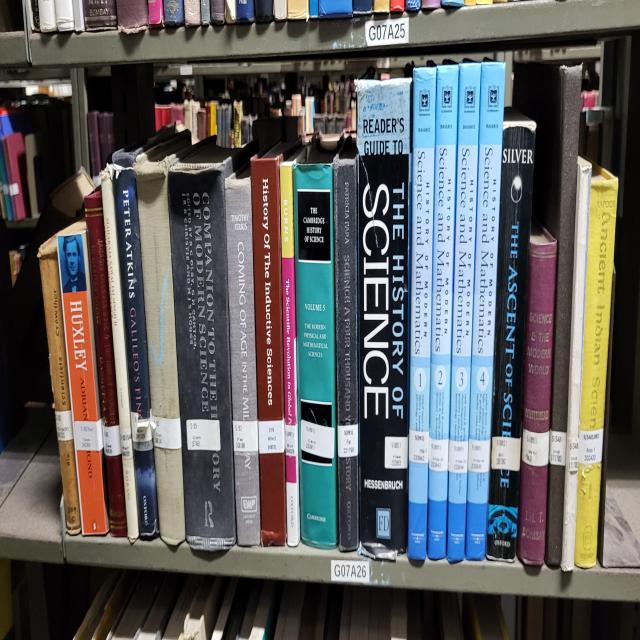Book: (168, 138, 255, 552), (512, 62, 581, 565), (358, 81, 410, 555), (134, 133, 191, 547), (486, 108, 536, 563), (565, 160, 618, 568), (251, 143, 301, 547), (465, 62, 505, 560), (110, 152, 159, 538), (294, 141, 338, 547), (448, 62, 481, 563), (58, 222, 109, 536), (428, 65, 459, 560), (85, 189, 128, 536), (101, 168, 139, 544), (408, 65, 436, 560), (225, 165, 261, 547), (518, 222, 558, 565), (39, 235, 81, 533), (561, 157, 591, 571), (334, 138, 359, 552), (280, 143, 305, 547)
Label: (301, 419, 335, 460), (521, 427, 550, 468), (186, 419, 221, 452), (491, 436, 521, 471), (151, 417, 181, 449), (579, 427, 604, 465), (259, 419, 285, 455), (74, 419, 102, 452), (232, 419, 259, 452), (131, 411, 152, 452), (468, 438, 490, 473), (385, 436, 408, 468), (338, 425, 359, 457), (409, 430, 429, 463), (429, 438, 449, 471), (449, 441, 469, 473), (102, 425, 121, 457), (549, 430, 566, 465), (55, 411, 74, 441), (285, 425, 298, 457)
